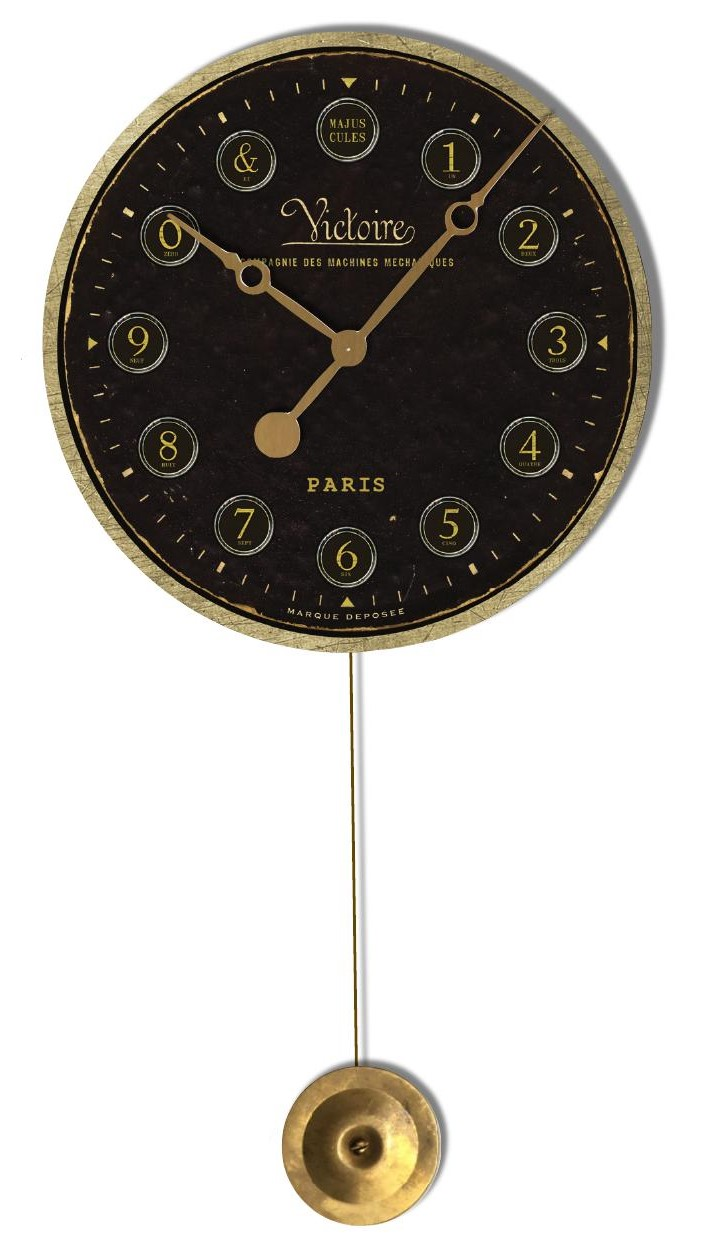clock: (65, 46, 644, 646)
